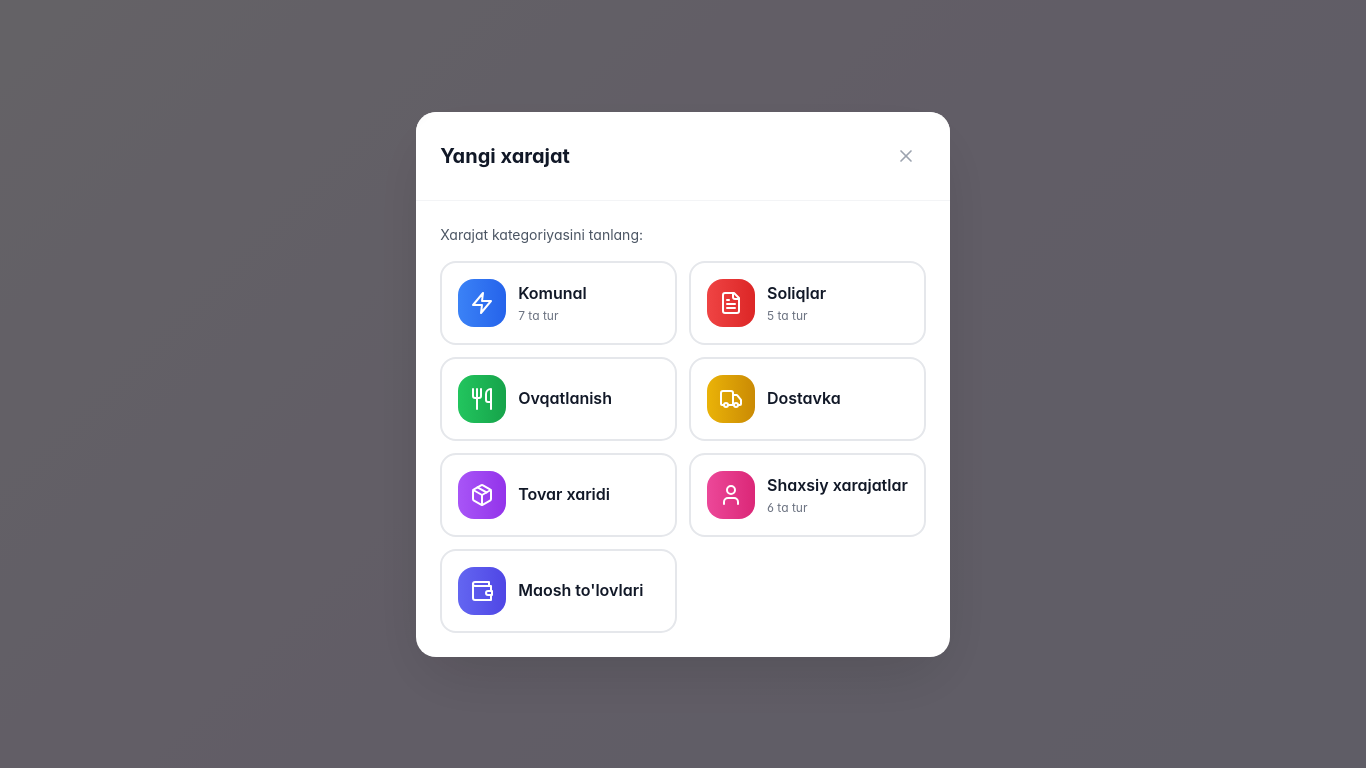
Test: 🧪 ExpenseModal Component › Form Validation › ✅ Validates amount maximum
The width and height of the screenshot is (1366, 768).
Click the button "Ovqatlanish" at (559, 398), box [440, 356, 677, 440]
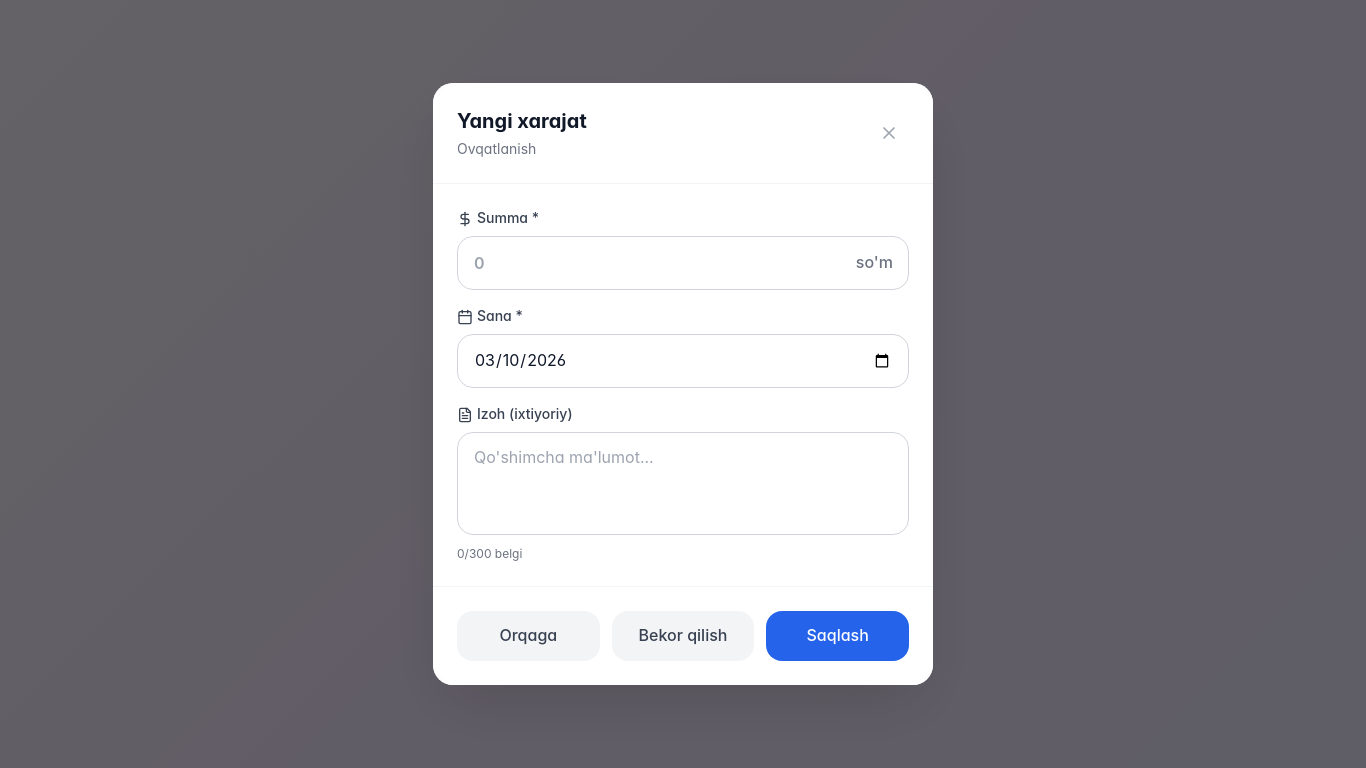
Type "2000000000" into the field with placeholder "0" at (683, 263), box [457, 236, 909, 290]
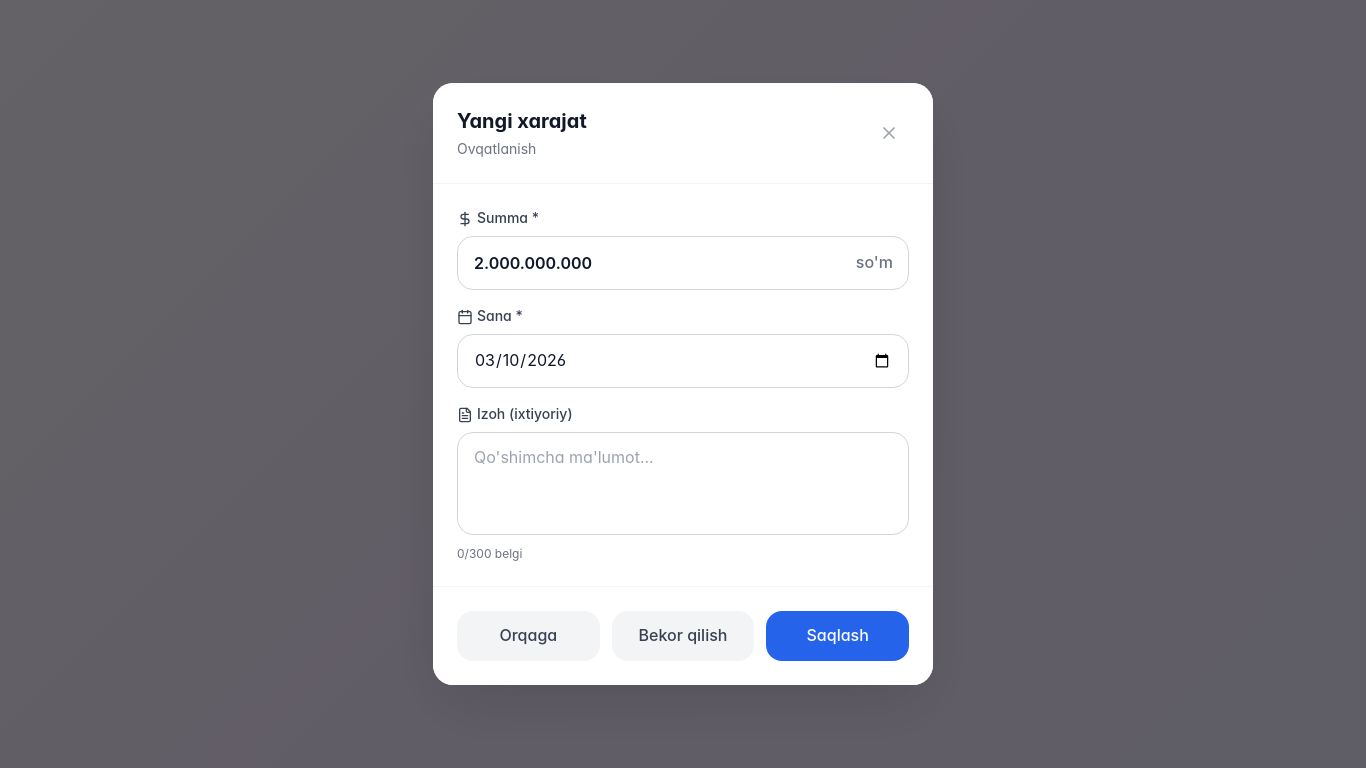
Click the button "Saqlash" at (838, 636), box [766, 611, 909, 661]
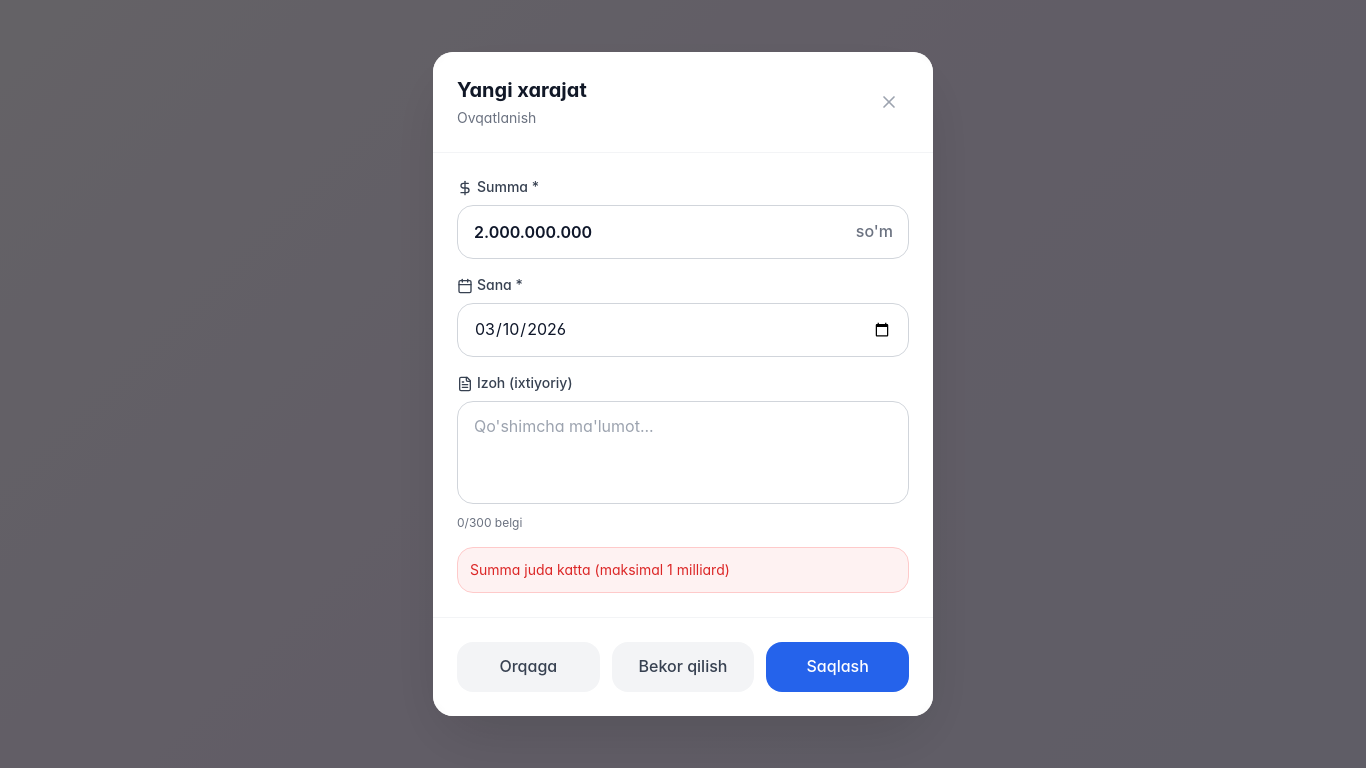
Check: the text "Summa juda katta (maksimal 1 milliard)" is shown, box [470, 561, 730, 578]
